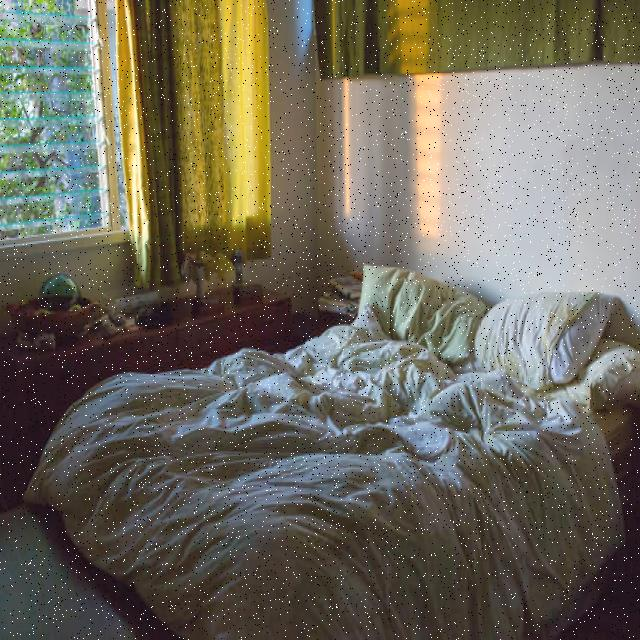bed: (47, 266, 640, 640)
